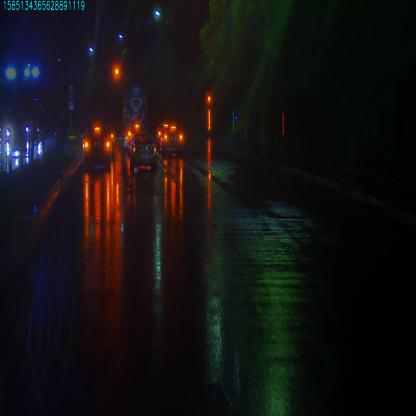traffic-light: (113, 65, 120, 78)
